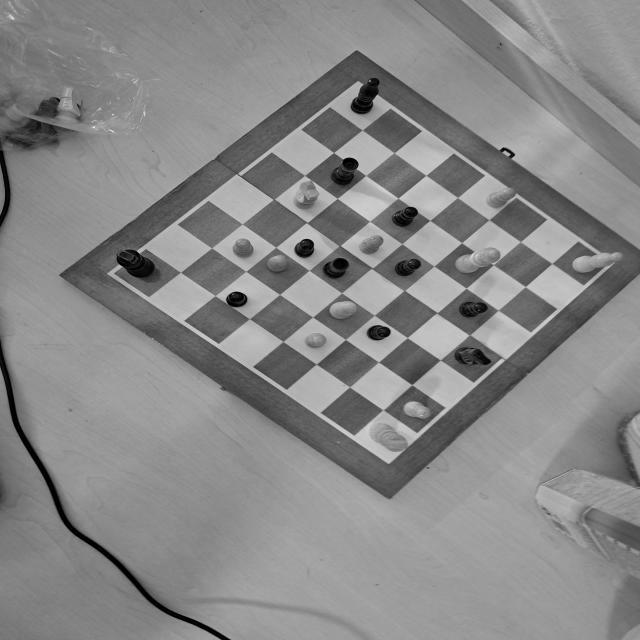chess-table-corners: (586, 248, 622, 274), (374, 448, 402, 469), (101, 265, 129, 281), (344, 78, 370, 94)
